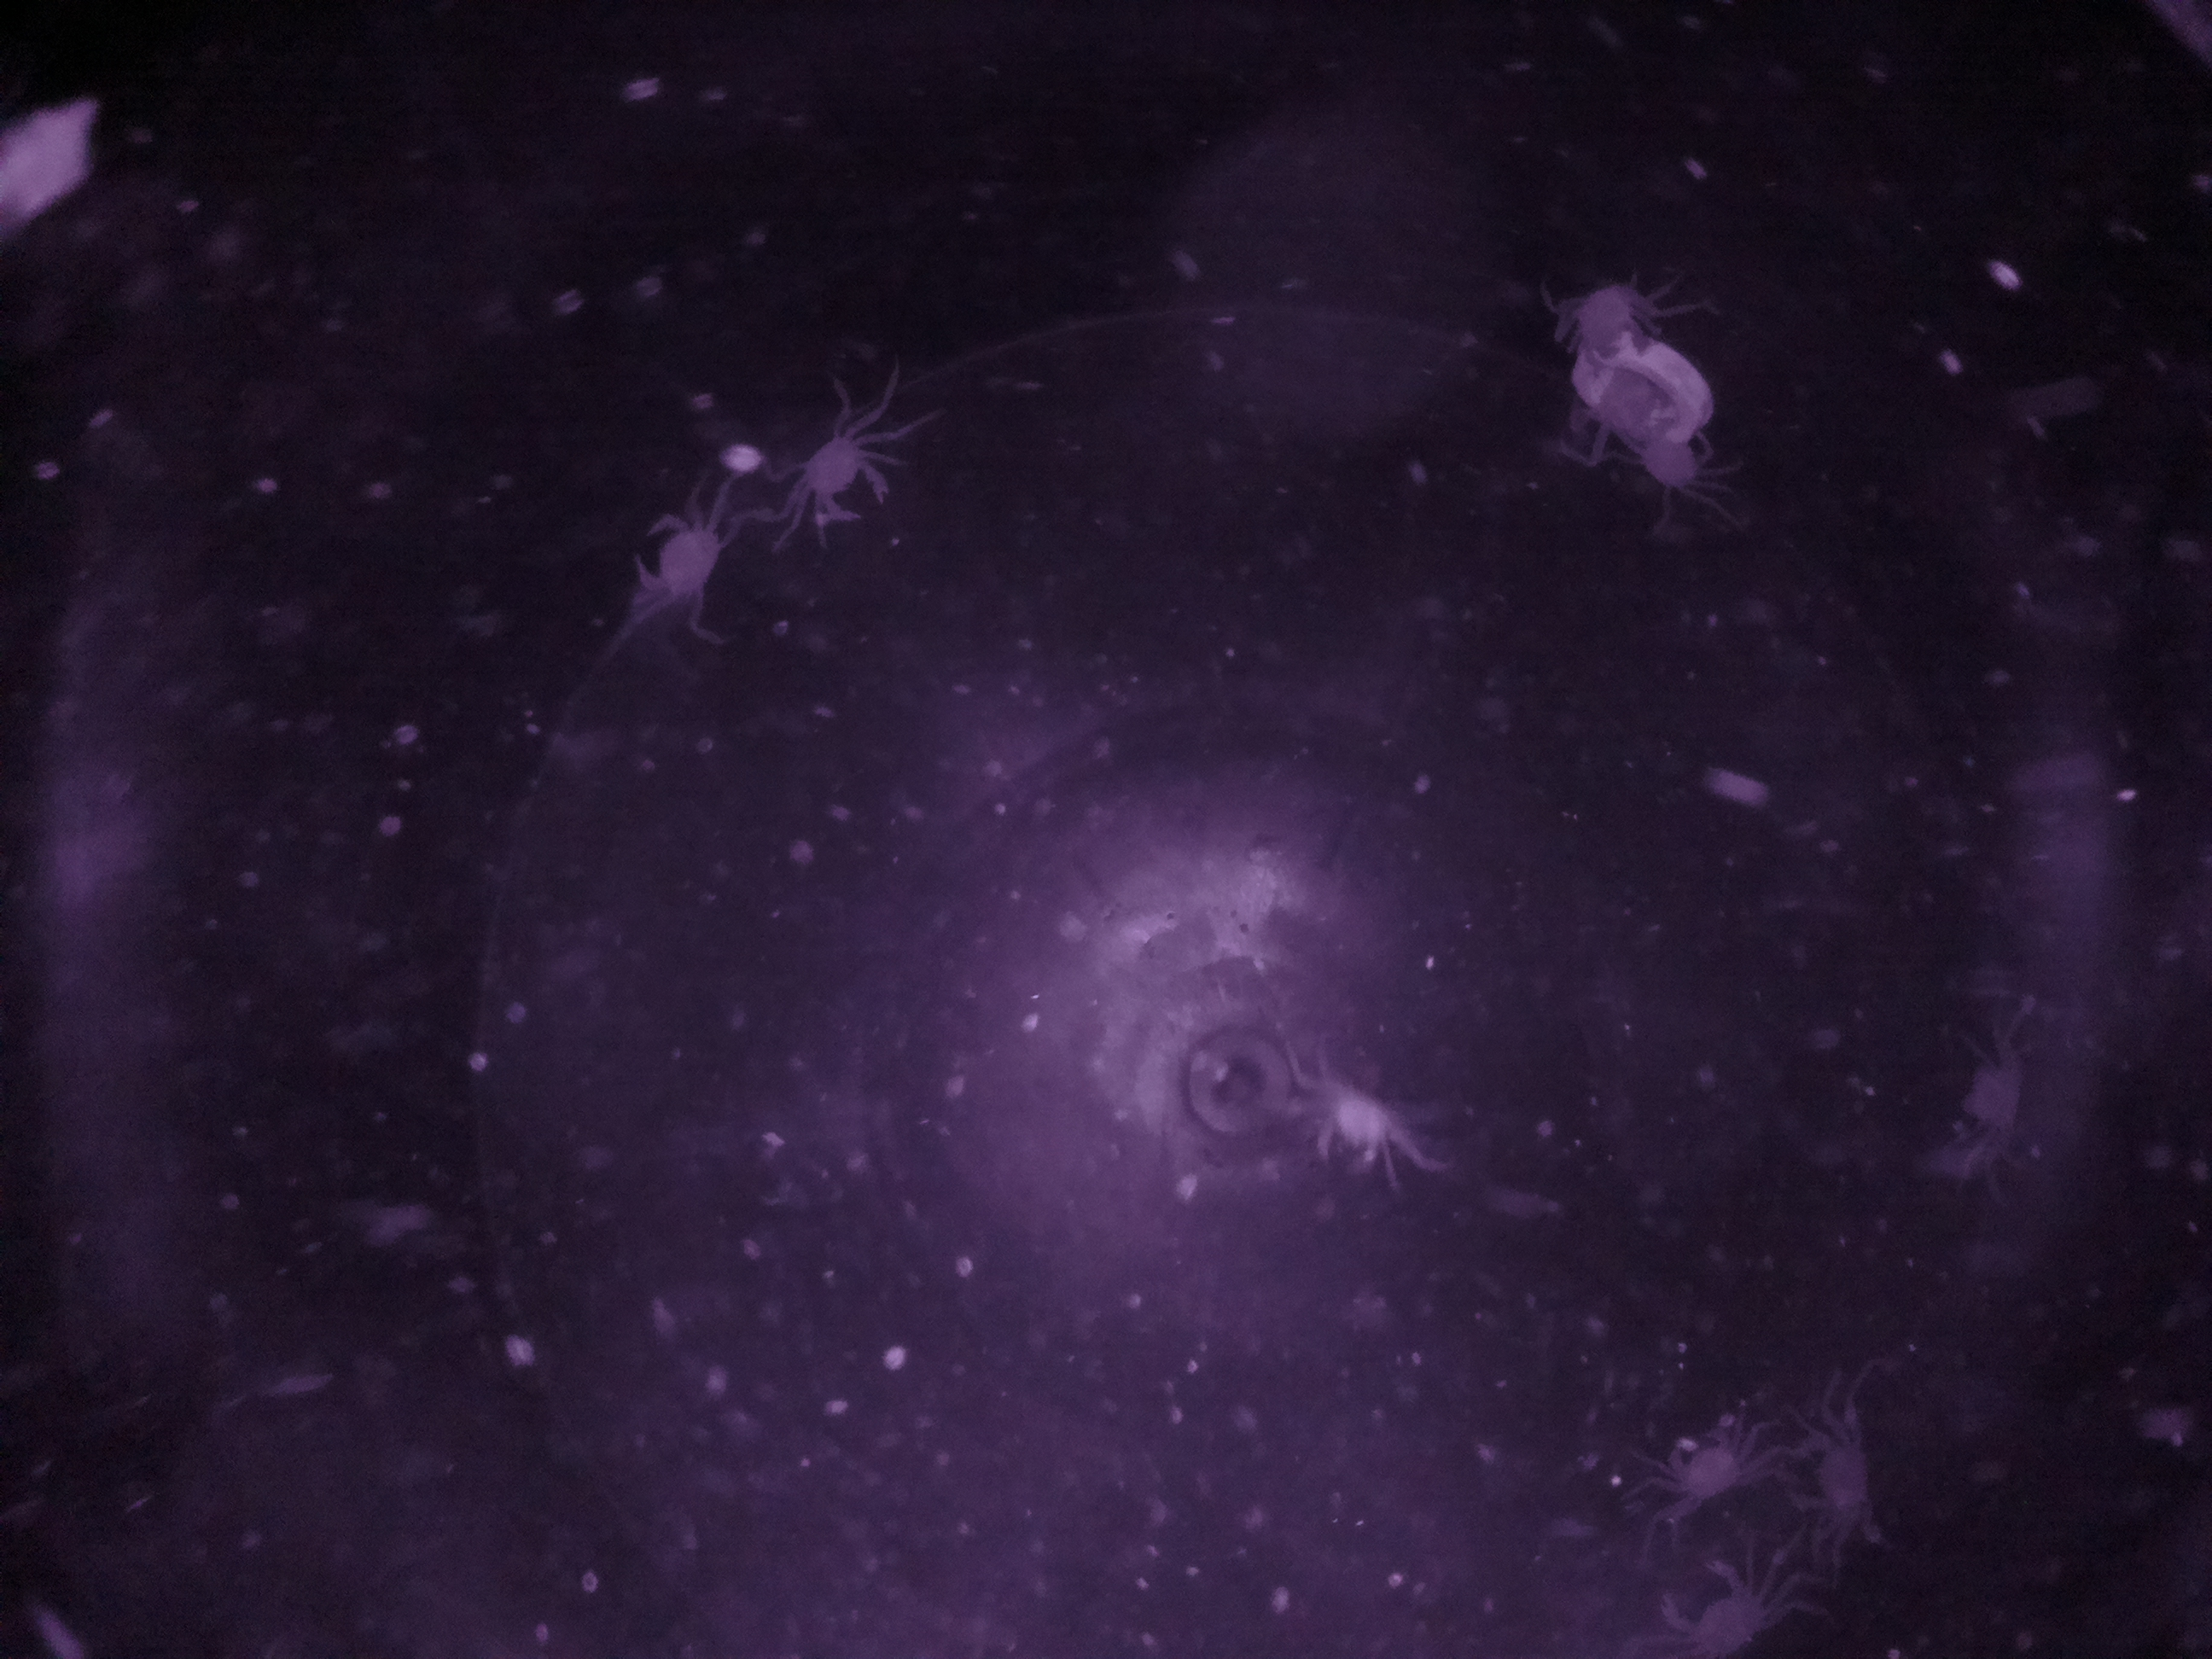Crab: (1301, 1047, 1428, 1197), (1642, 1539, 1785, 1659), (782, 410, 904, 547), (1778, 1408, 1902, 1540), (1947, 1028, 2055, 1155), (622, 497, 738, 613), (1618, 397, 1726, 505), (1552, 270, 1658, 373), (1653, 1410, 1756, 1511)
